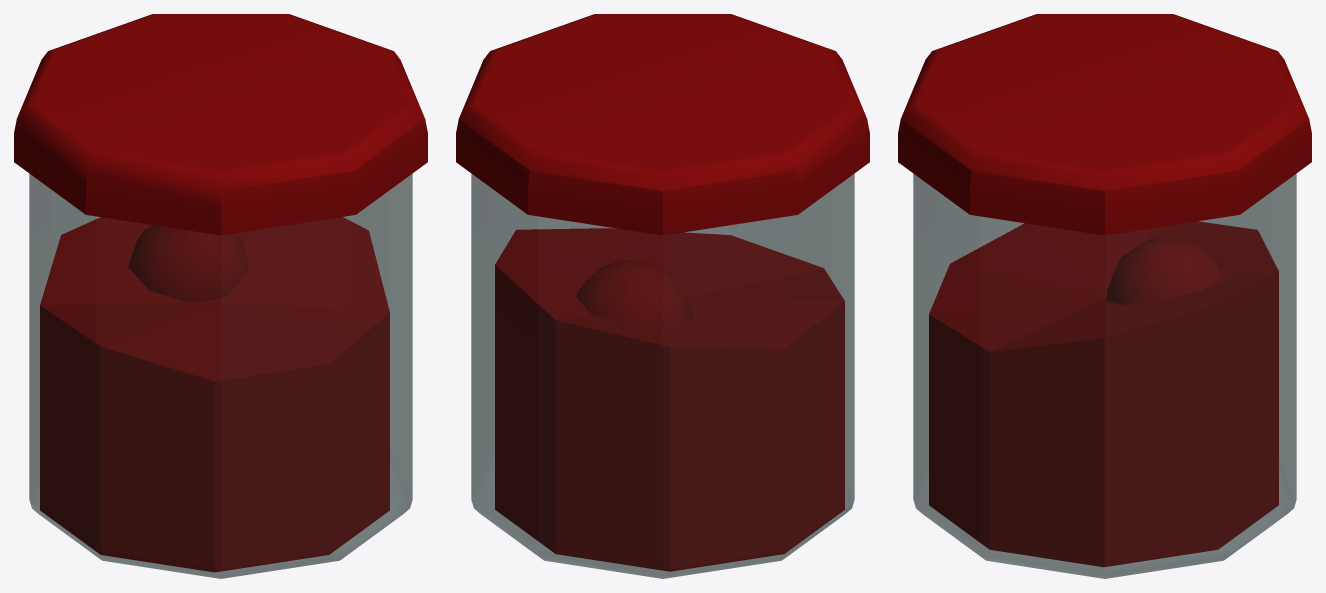
Rendered from bocal_1.fbx.
3 renders of one model, left to right at view 1: azimuth 30°, elevation 25°; view 2: azimuth 150°, elevation 25°; view 3: azimuth 270°, elevation 25°, orthographic.
Parts seen in each view (by area): view 1: Bocal; view 2: Bocal; view 3: Bocal.
Part boxes in pixels (left/top/right/bottom): Bocal: left=14, top=14, right=427, bottom=578; Bocal: left=456, top=14, right=869, bottom=578; Bocal: left=898, top=14, right=1311, bottom=578.
Size of the model in its own units: 0.9678 by 1.08 by 0.9828.
